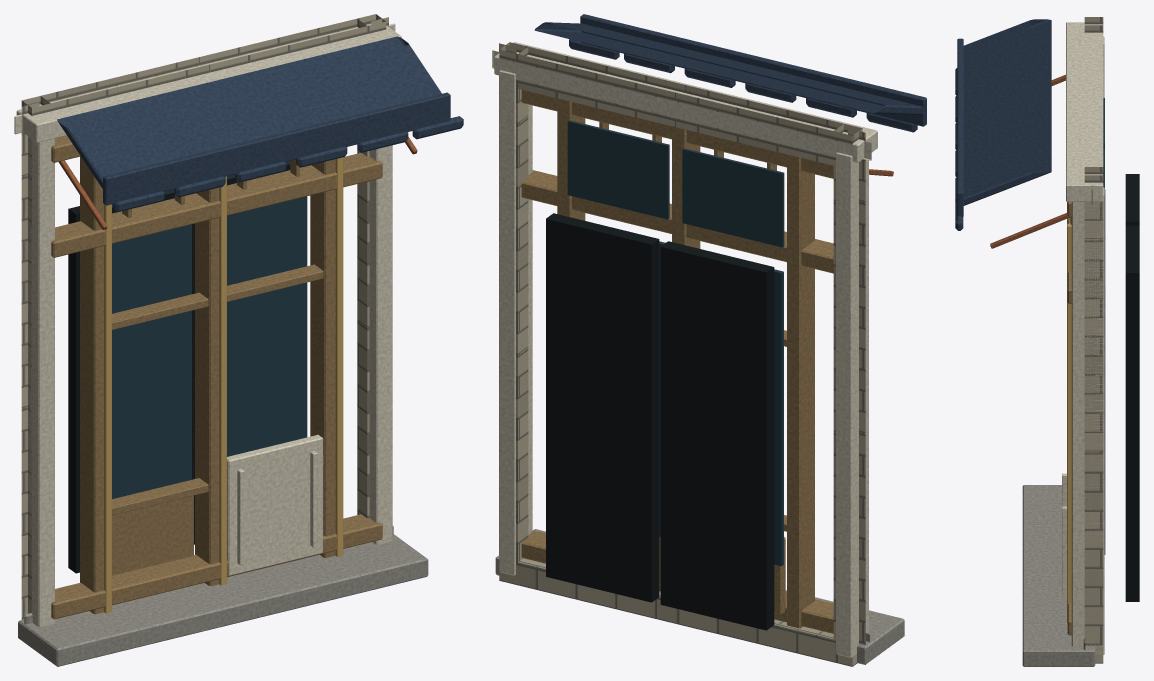
File: BUSS2_lod1.glb
3 renders of one model, left to right at view 1: azimuth 30°, elevation 25°; view 2: azimuth 150°, elevation 25°; view 3: azimuth 270°, elevation 25°, orthographic. The views are drawn at different scales.
Visible parts, largest first — view 1: ground; view 2: ground; view 3: ground.
Boxes of the visible parts, x1=… form: ground: x1=14, y1=14, x2=463, y2=666; ground: x1=492, y1=14, x2=926, y2=666; ground: x1=955, y1=17, x2=1139, y2=666.
Bounding box in the file's own units: 3.44 × 4.6 × 1.57.
9 materials, 6 textured.
